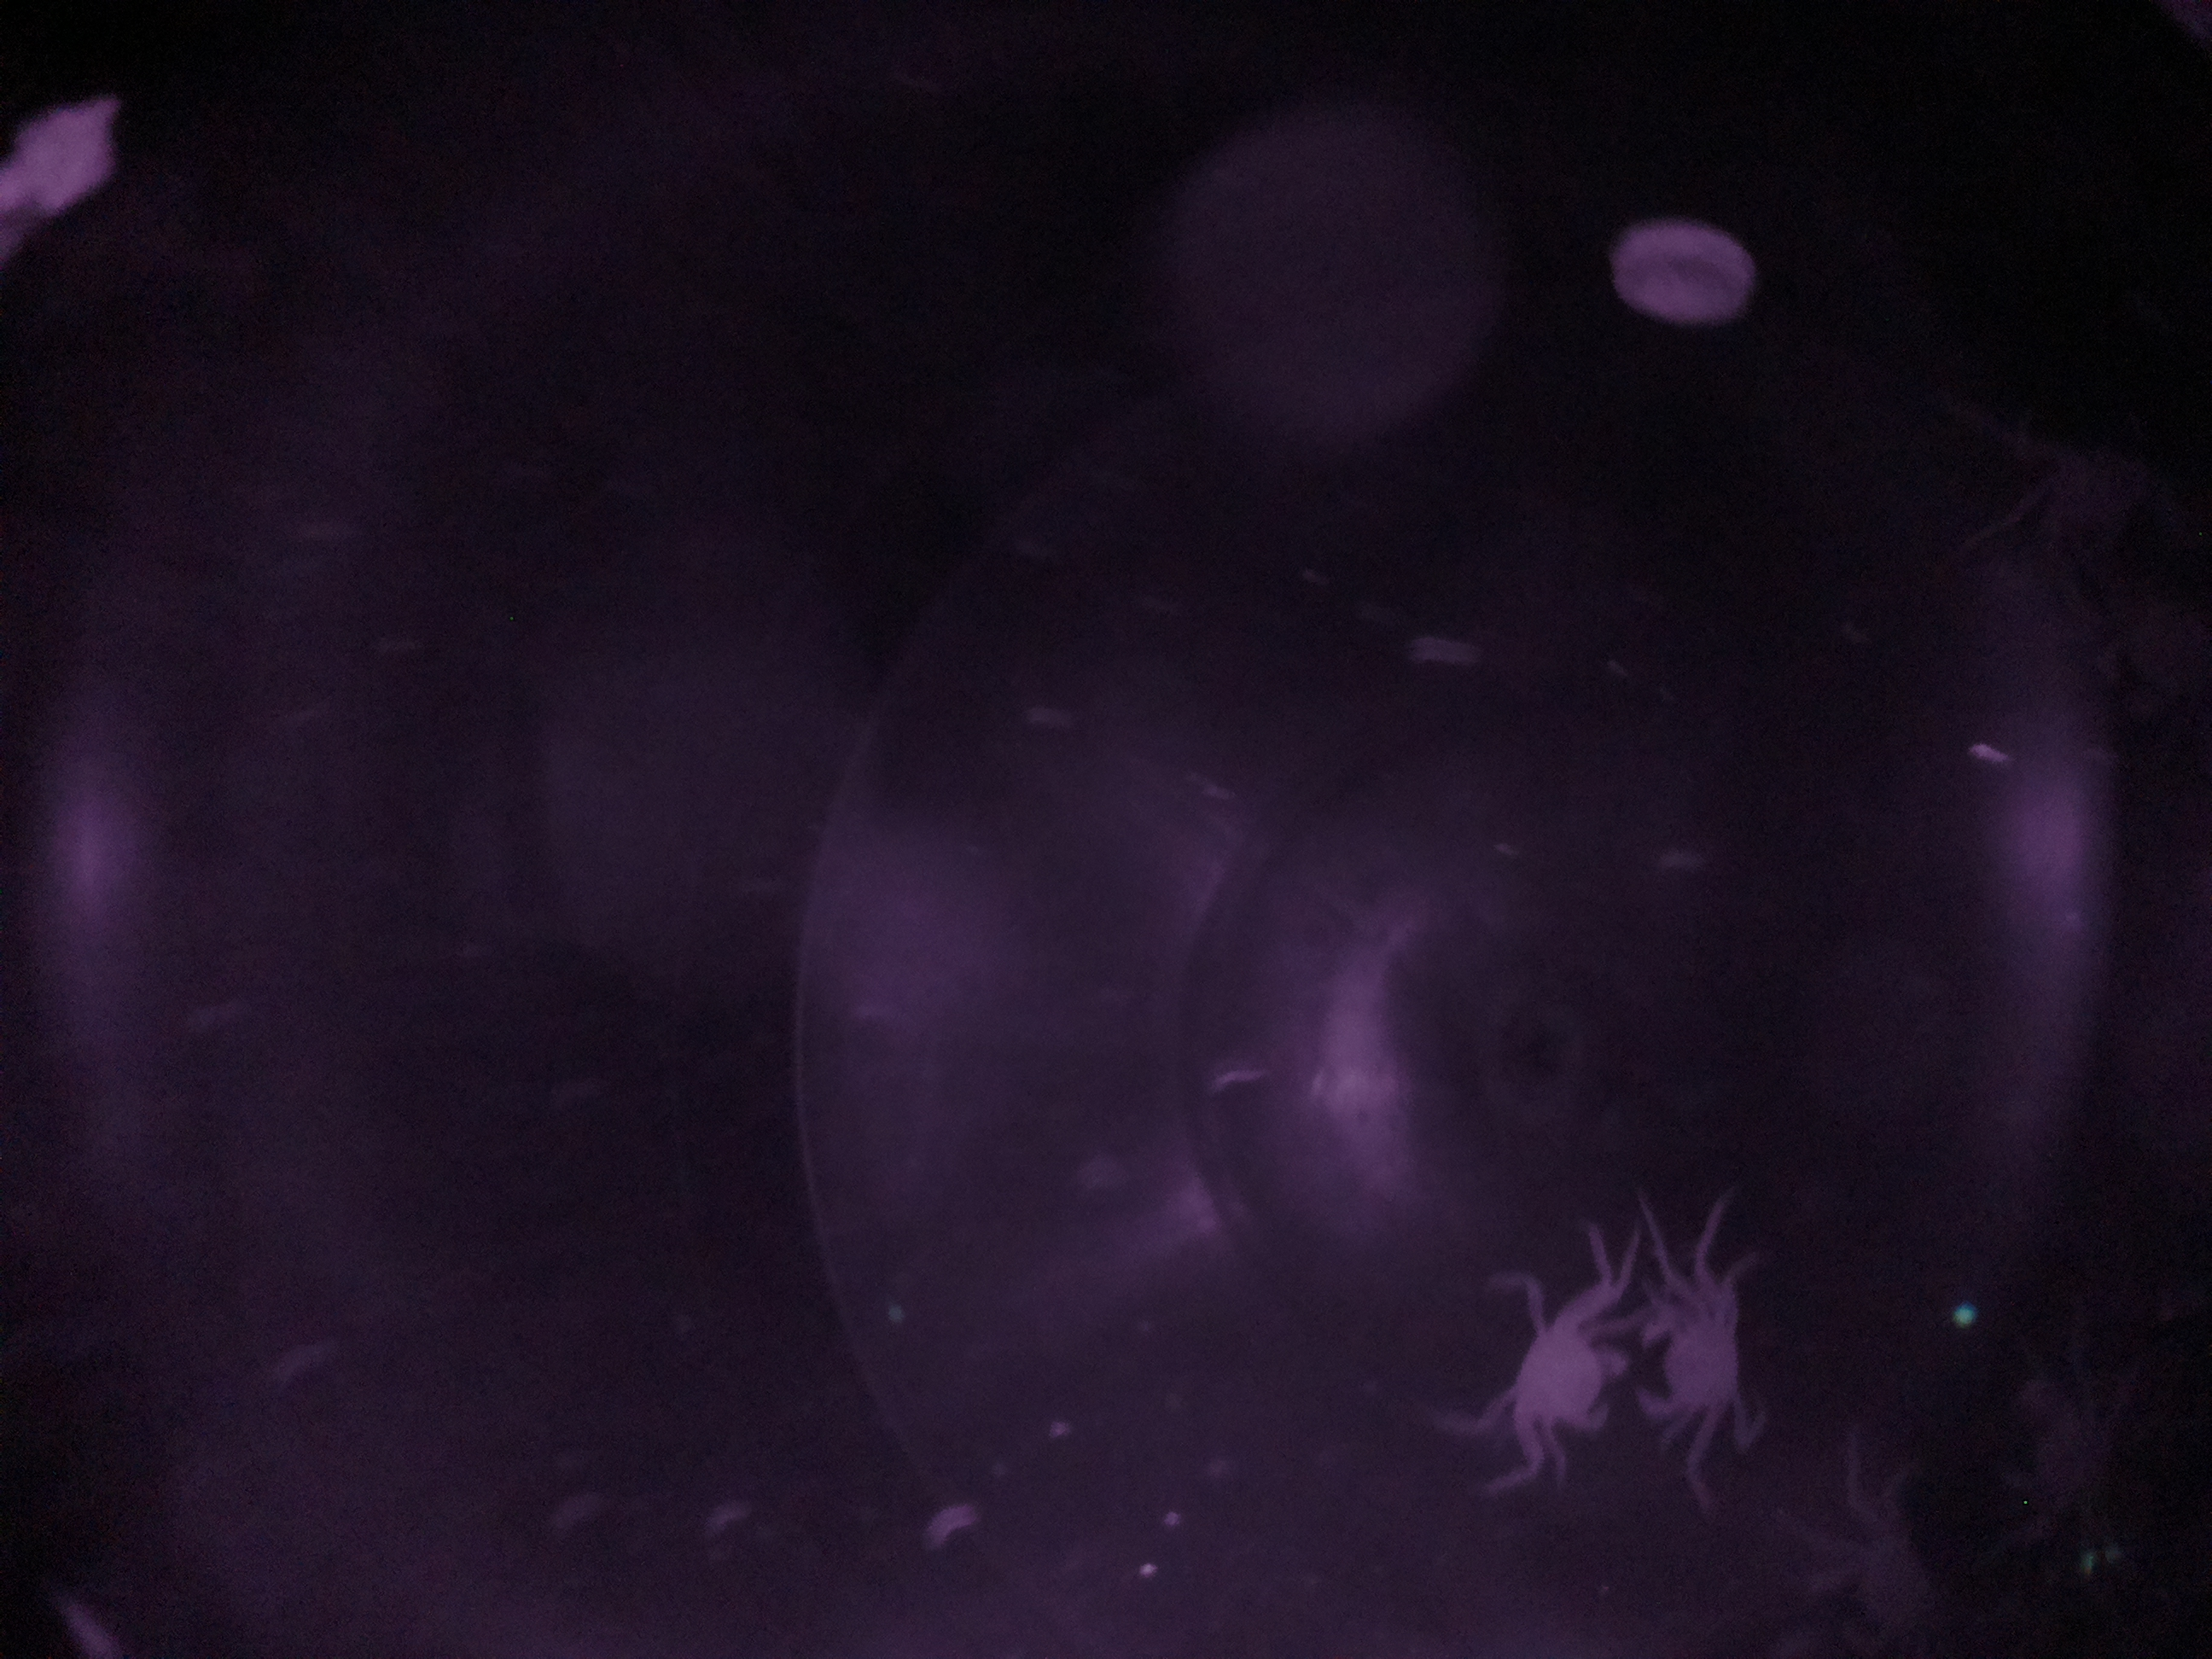Crab: (1623, 1218, 1815, 1478), (1461, 1276, 1627, 1480)
